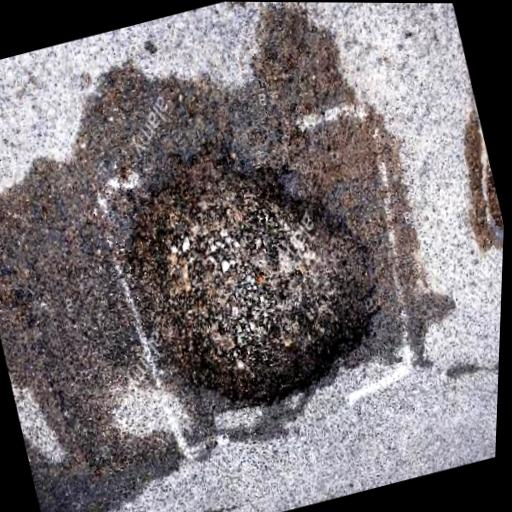pothole: (93, 110, 415, 442)
